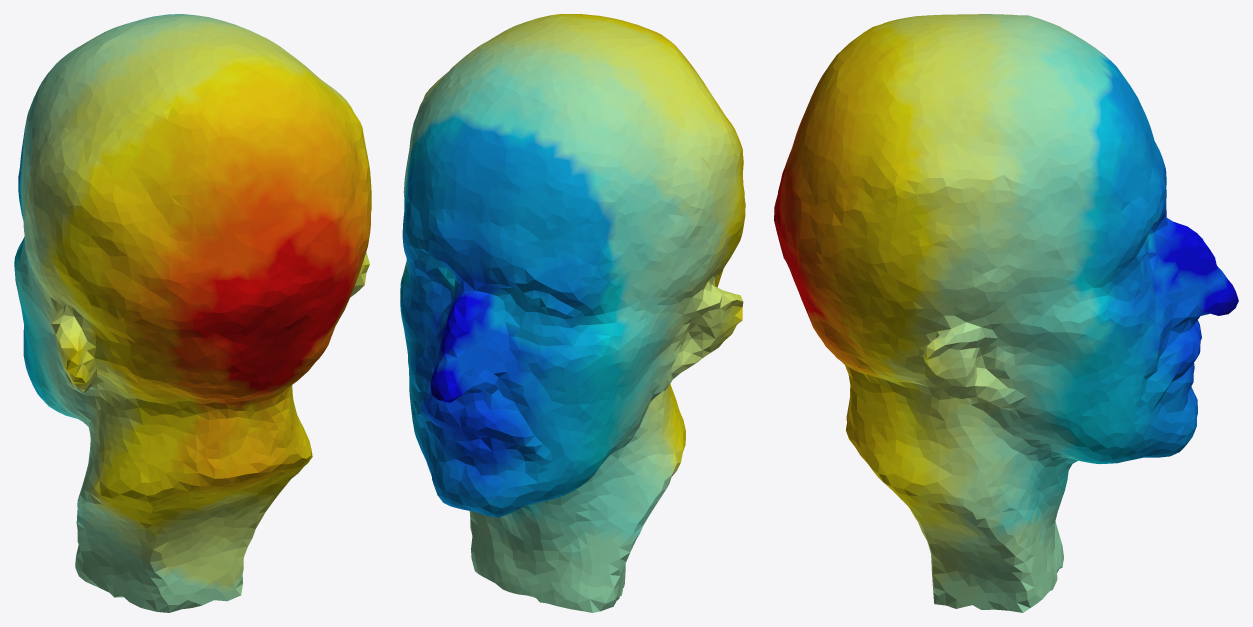
The model's file is max.glb.
3 renders of one model, left to right at view 1: azimuth 30°, elevation 25°; view 2: azimuth 150°, elevation 25°; view 3: azimuth 270°, elevation 25°, orthographic. The views are drawn at different scales.
Parts seen in each view (by area): view 1: max.obj; view 2: max.obj; view 3: max.obj.
Part boxes in pixels (x1,y1,x2,y2): max.obj: (14,14,371,612); max.obj: (400,14,745,612); max.obj: (774,14,1238,612).
Size of the model in its own units: 0.8825 by 1.49 by 1.12.
